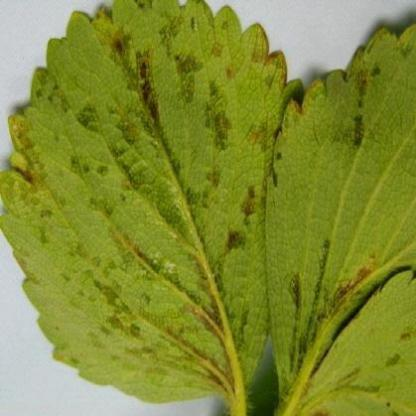Strawberry_Angular_LeafSpot: (0, 0, 305, 405), (266, 21, 414, 412), (291, 271, 415, 415)
